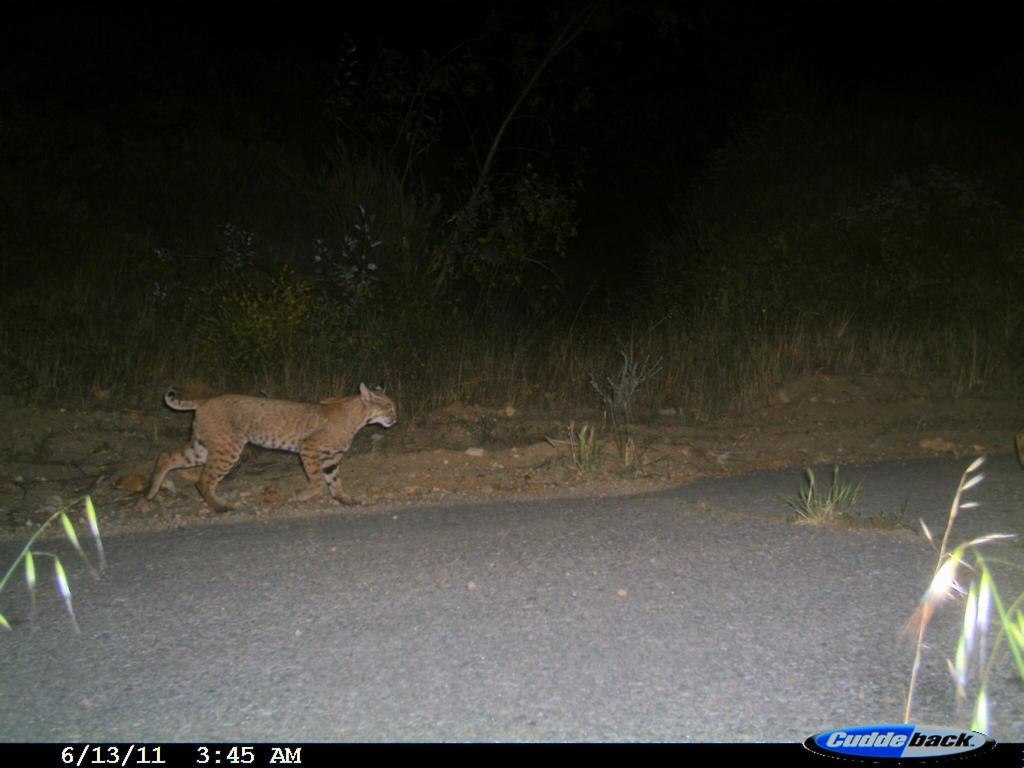bobcat: (145, 378, 402, 518)
